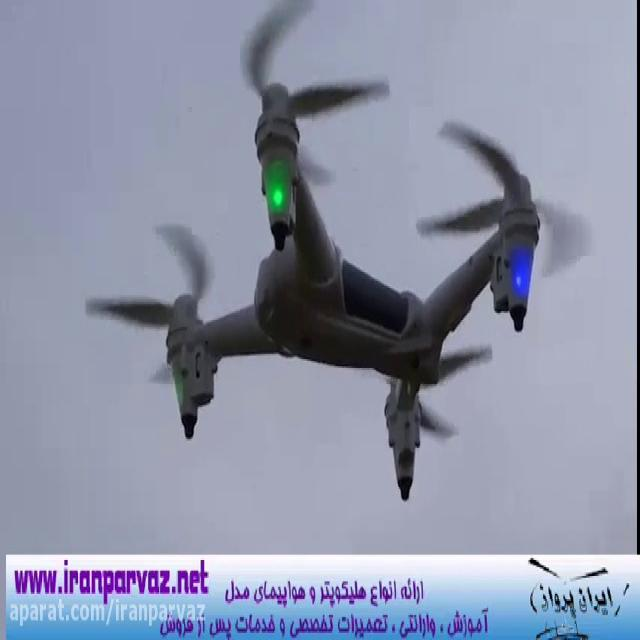drone: (81, 0, 595, 501)
